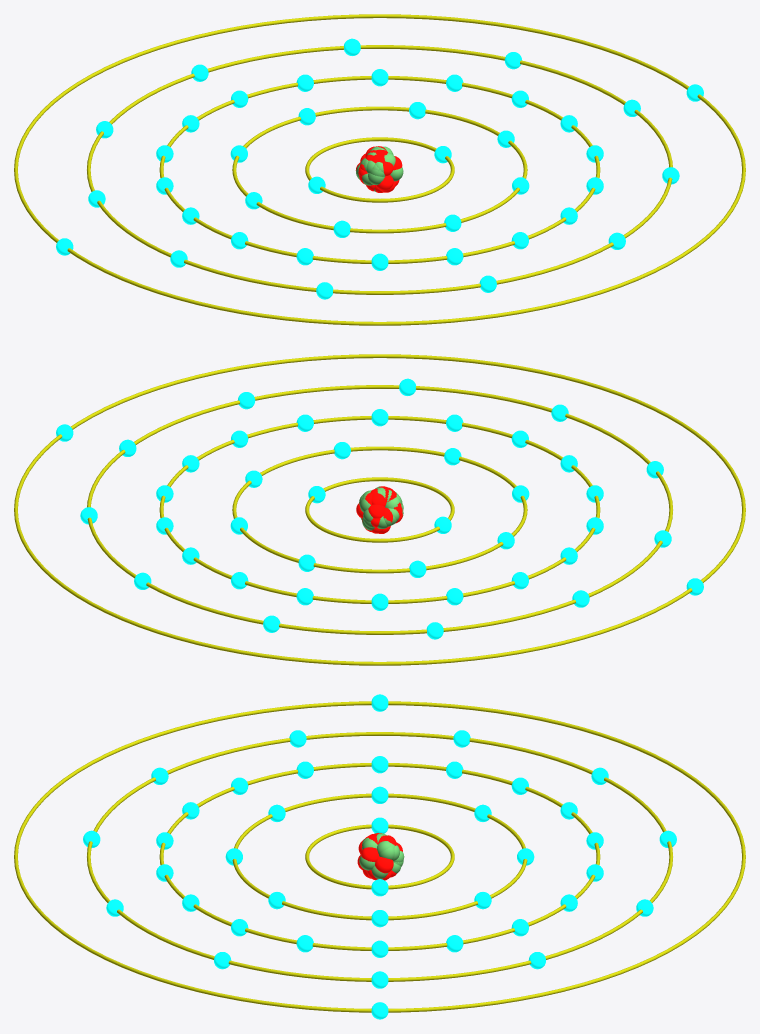
Rendered from atomo_41.glb.
The picture shows the model from 3 angles, top to bottom: view 1: azimuth 30°, elevation 25°; view 2: azimuth 150°, elevation 25°; view 3: azimuth 270°, elevation 25°; orthographic projection.
Visible parts, largest first — view 1: orbital_5, orbital_4, orbital_3, orbital_2, orbital_1; view 2: orbital_5, orbital_4, orbital_3, orbital_2, orbital_1; view 3: orbital_5, orbital_4, orbital_3, orbital_2, orbital_1.
Boxes of the visible parts, x1=… form: orbital_5: x1=14, y1=14, x2=745, y2=325; orbital_4: x1=87, y1=45, x2=672, y2=294; orbital_3: x1=159, y1=76, x2=600, y2=263; orbital_2: x1=232, y1=106, x2=527, y2=233; orbital_1: x1=305, y1=137, x2=454, y2=202; orbital_5: x1=14, y1=354, x2=745, y2=665; orbital_4: x1=87, y1=385, x2=672, y2=634; orbital_3: x1=159, y1=416, x2=600, y2=603; orbital_2: x1=232, y1=446, x2=527, y2=573; orbital_1: x1=305, y1=477, x2=454, y2=542; orbital_5: x1=14, y1=701, x2=745, y2=1012; orbital_4: x1=87, y1=732, x2=672, y2=981; orbital_3: x1=159, y1=763, x2=600, y2=950; orbital_2: x1=232, y1=793, x2=527, y2=920; orbital_1: x1=305, y1=824, x2=454, y2=889.
Size of the model in its own units: 15.36 by 0.9986 by 15.08.
